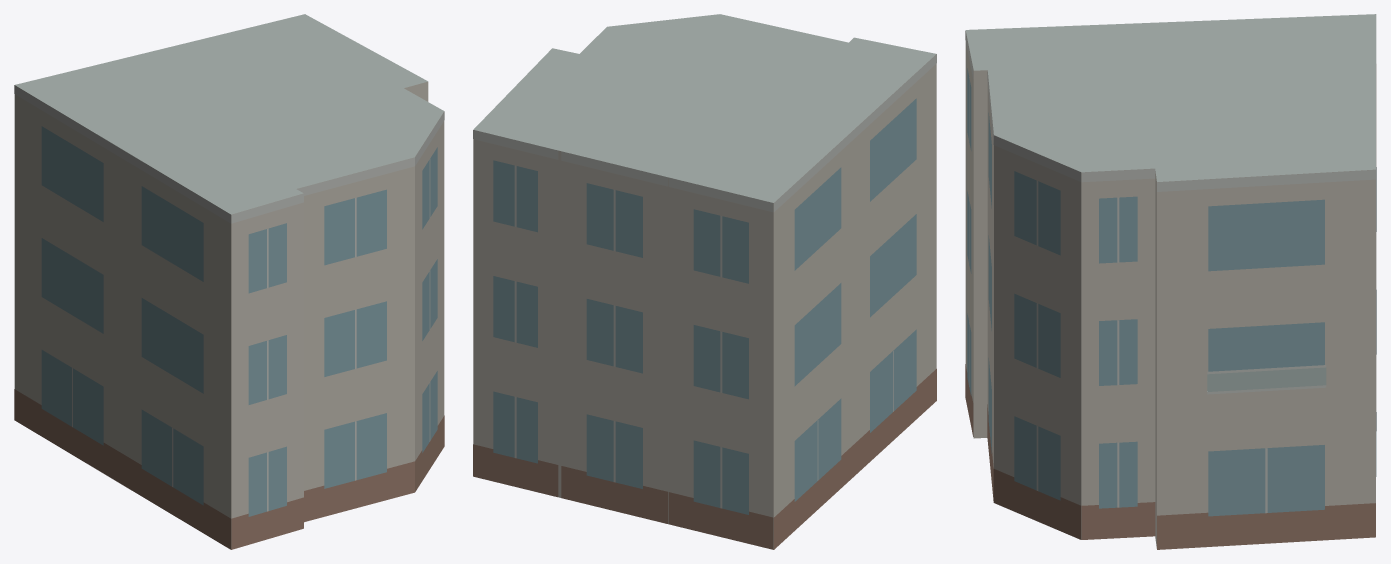
The model's file is survey-upis-32978233.glb.
3 renders of one model, left to right at view 1: azimuth 30°, elevation 25°; view 2: azimuth 150°, elevation 25°; view 3: azimuth 270°, elevation 25°, orthographic. The views are drawn at different scales.
Visible parts, largest first — view 1: survey-upis-32978233.tmp; view 2: survey-upis-32978233.tmp; view 3: survey-upis-32978233.tmp.
Part boxes in pixels (x1=…): survey-upis-32978233.tmp: x1=14, y1=14, x2=444, y2=549; survey-upis-32978233.tmp: x1=473, y1=14, x2=936, y2=549; survey-upis-32978233.tmp: x1=965, y1=14, x2=1376, y2=549.
Size of the model in its own units: 8.83 by 9 by 9.12.
